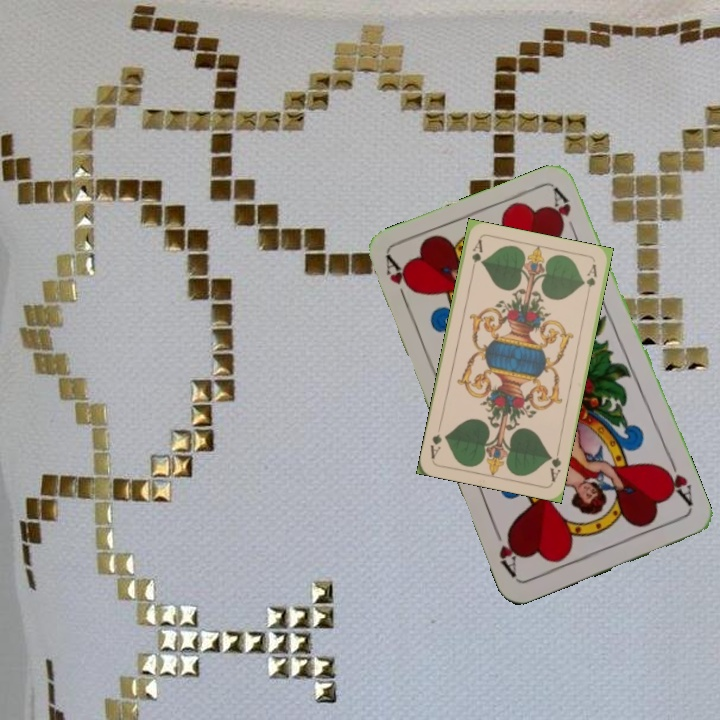GA: (545, 444, 564, 484), (467, 236, 485, 276)
HA: (381, 253, 419, 310), (657, 454, 696, 509)
